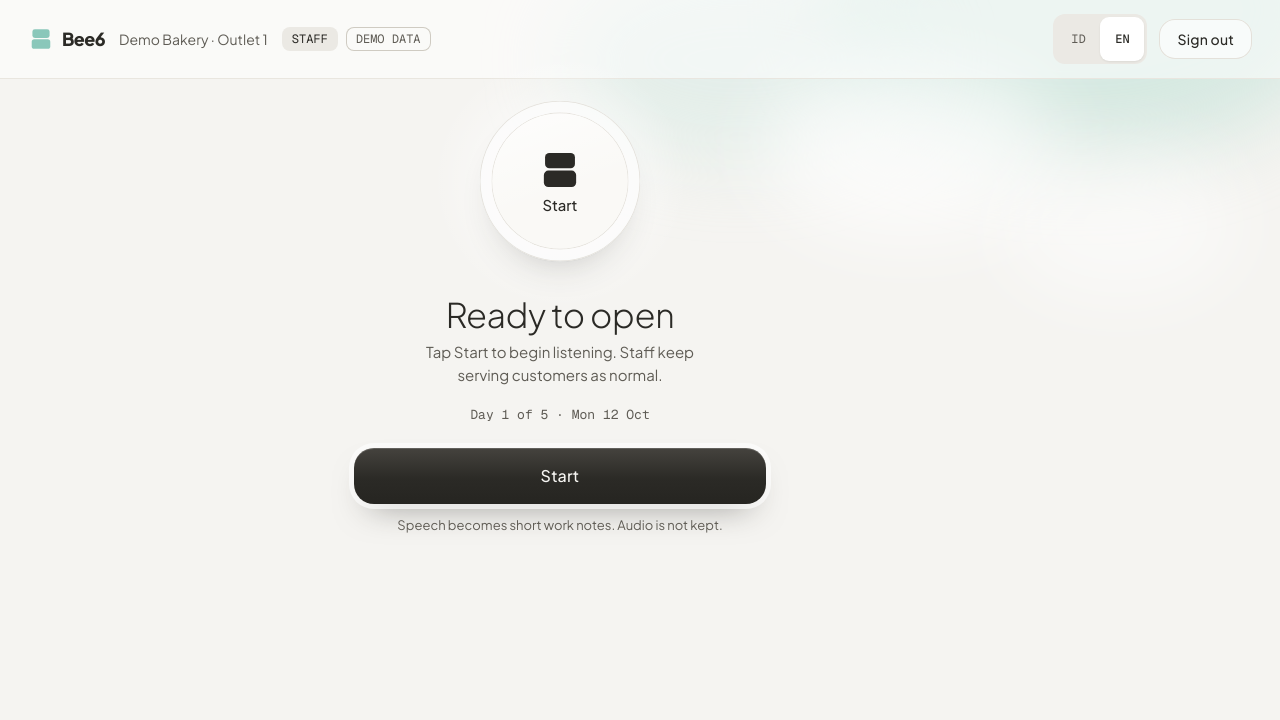
sandbox capture screen (R-25 T5): document order and landmarks › the privacy notice is on the page in every sandbox state, exactly once: idle, running, and the debrief after End
Step 1. Click the button "Start" → (560, 476), box [354,448,766,504]
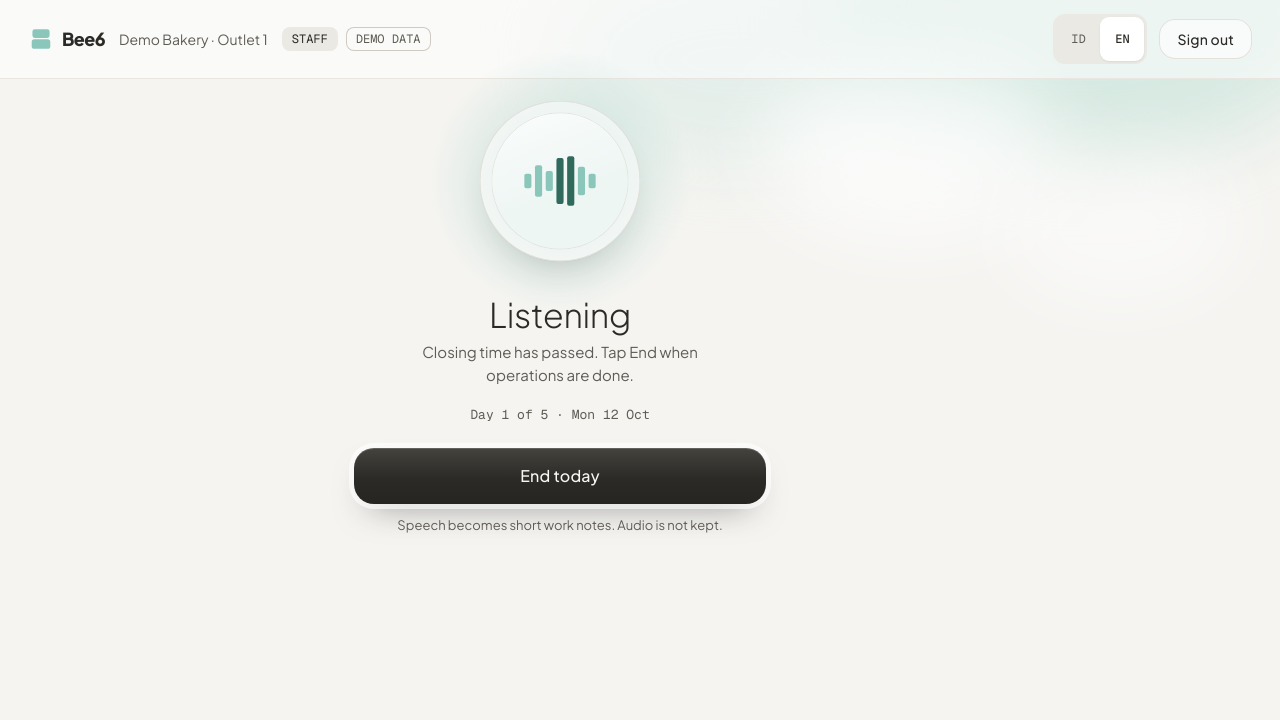
Check: the number of elements with test id "capture-notice" is 1, box [397,517,723,533]
Check: the heading "Listening" is shown, box [489,295,631,334]
Step 2. Click the button "End today" → (560, 476), box [354,448,766,504]
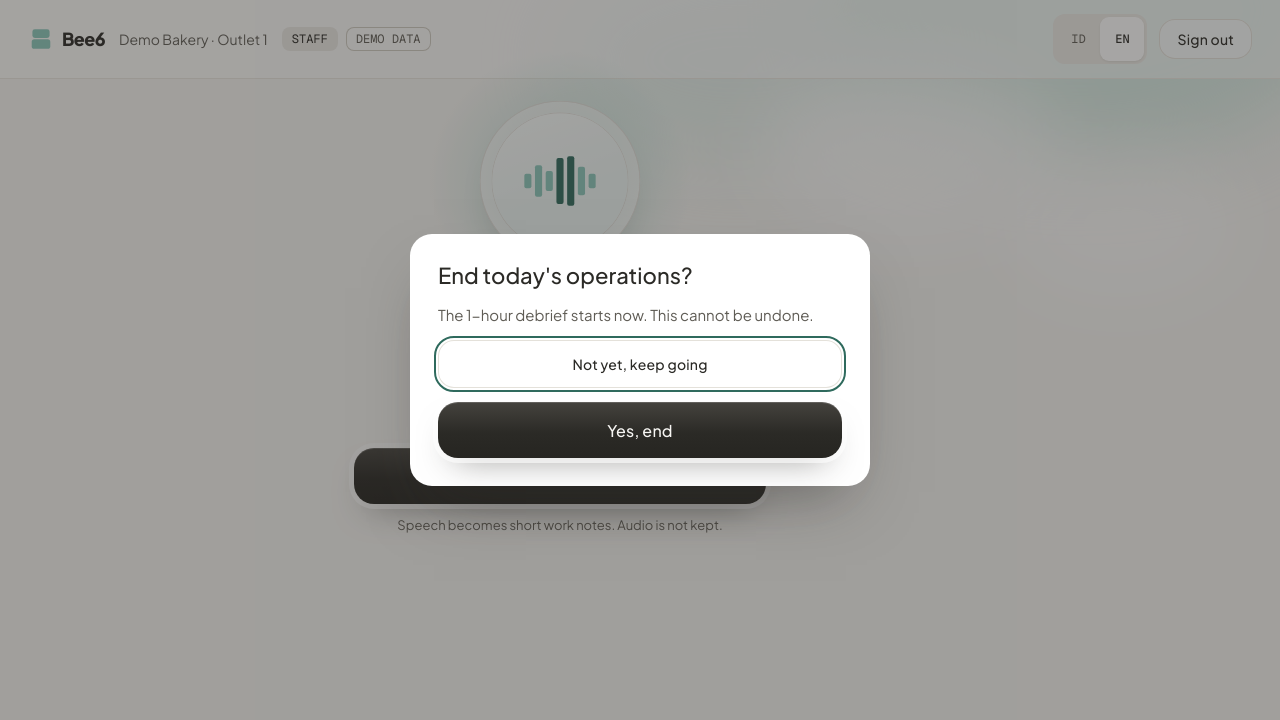
Step 3. Click the button "Yes, end" → (640, 430), box [438,402,842,458]
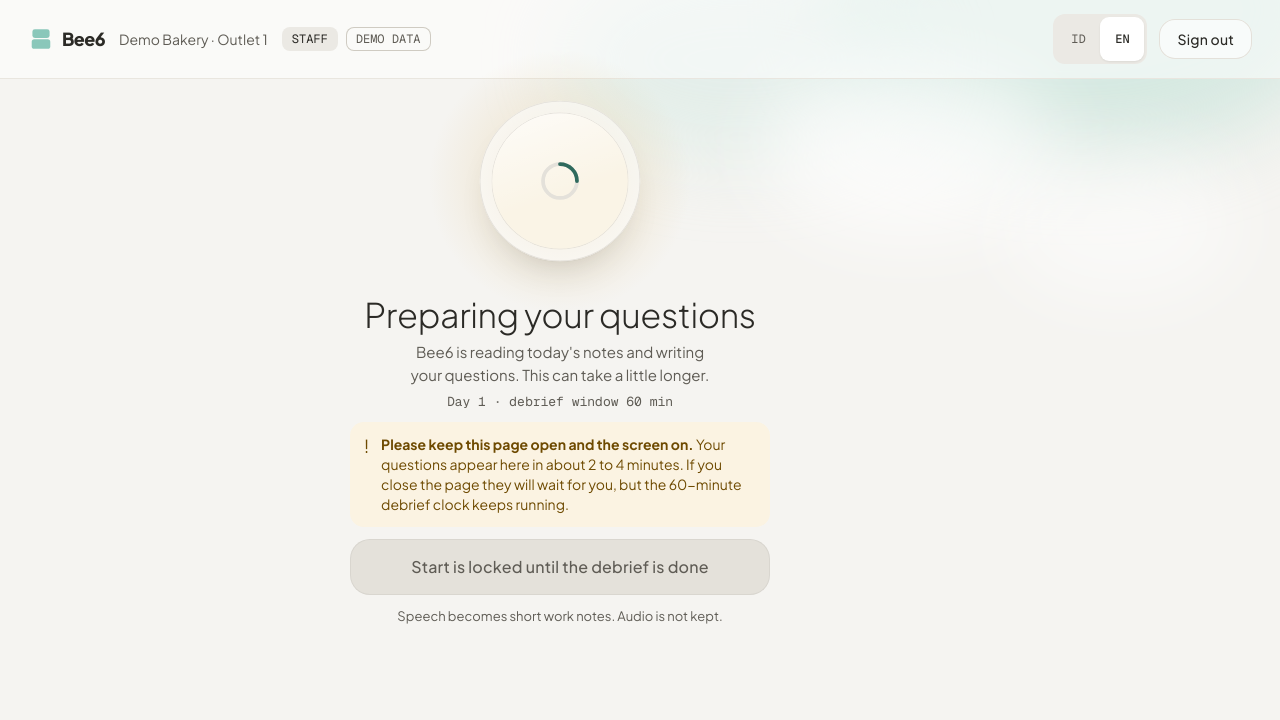
Check: the number of elements with test id "capture-notice" is 1, box [397,608,723,624]
Check: the heading "Preparing your questions" is shown, box [364,295,756,334]
